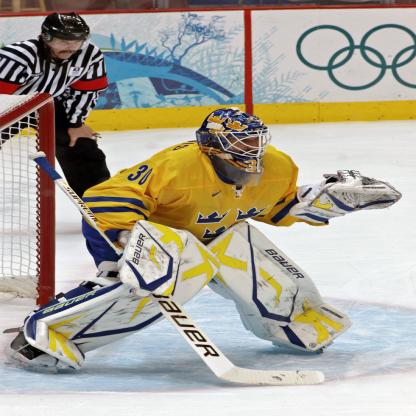Helmet: (193, 107, 271, 172), (40, 11, 91, 71)
